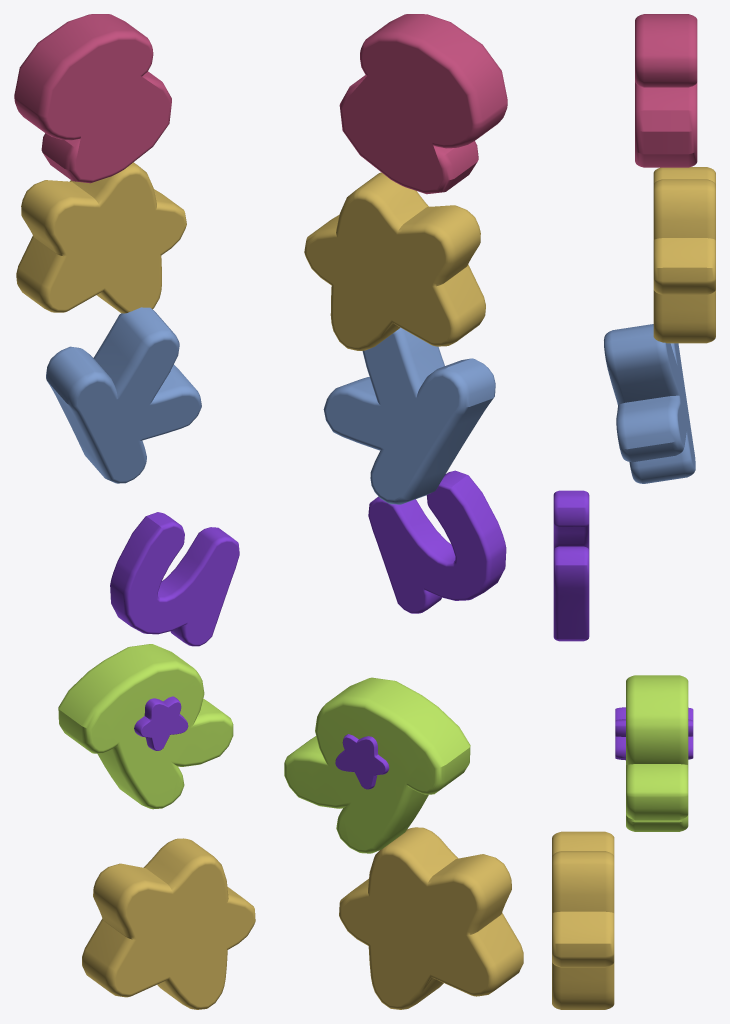
File: Letters.fbx
3 renders of one model, left to right at view 1: azimuth 30°, elevation 25°; view 2: azimuth 150°, elevation 25°; view 3: azimuth 270°, elevation 25°, orthographic. The views are drawn at different scales.
Parts seen in each view (by area): view 1: Letters; view 2: Letters; view 3: Letters.
Part boxes in pixels (box(x1,y1,x2,y2)): Letters: box(14, 14, 255, 1009); Letters: box(284, 14, 523, 1009); Letters: box(552, 14, 715, 1009).
Size of the model in its own units: 2.39 by 11.5 by 1.78.
